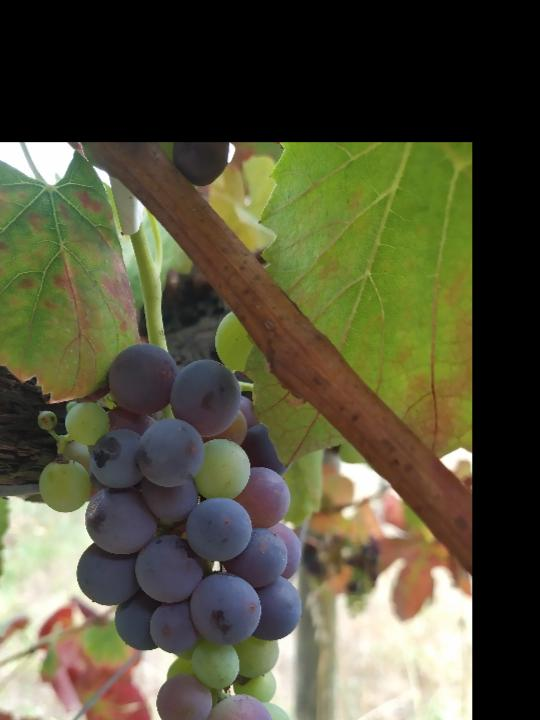grape: (34, 341, 306, 720)
